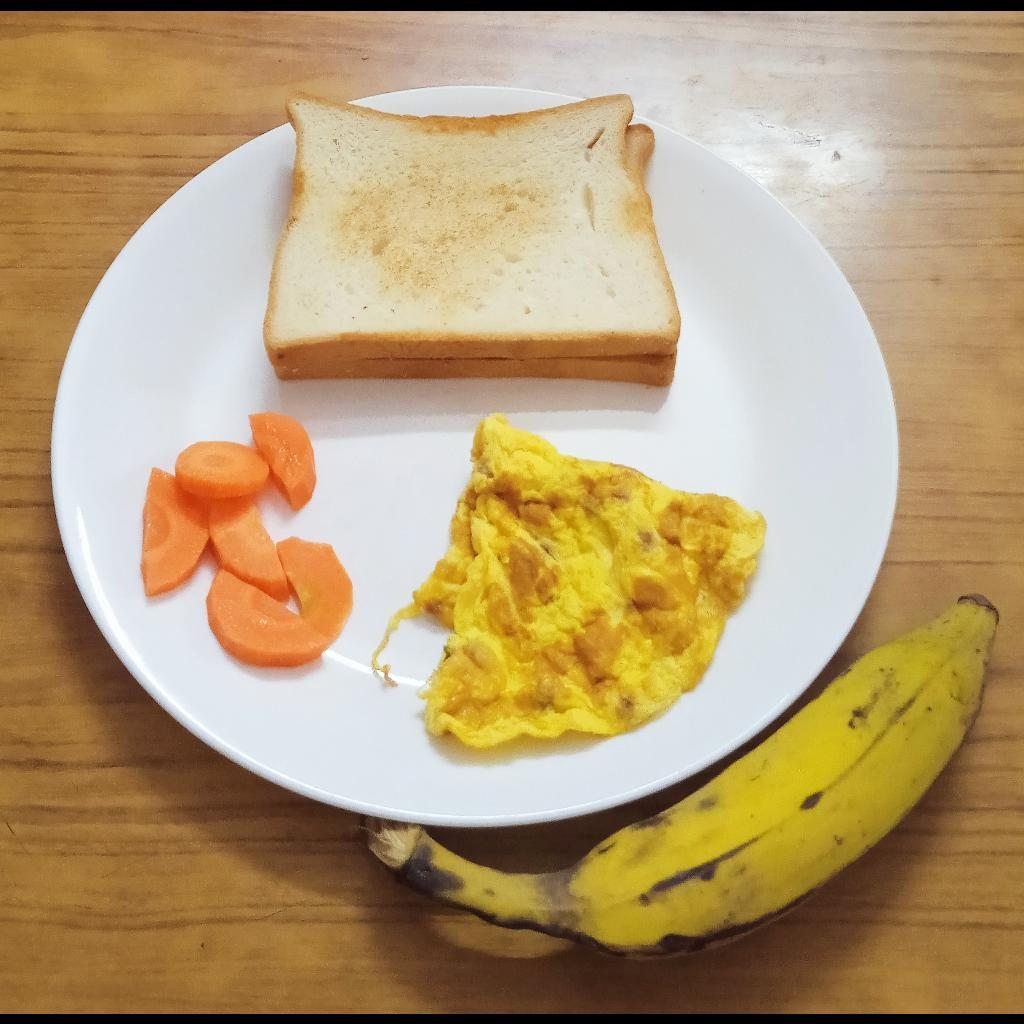banana: (359, 590, 1002, 967)
bread: (265, 91, 684, 387)
carrot: (137, 414, 359, 665)
egg-poached: (374, 414, 767, 753)
